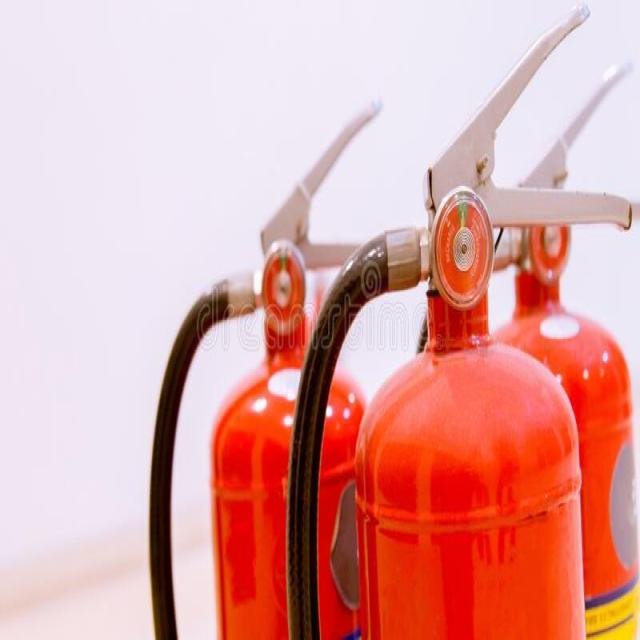fire_extinguisher: (279, 0, 639, 638), (142, 90, 412, 638)
